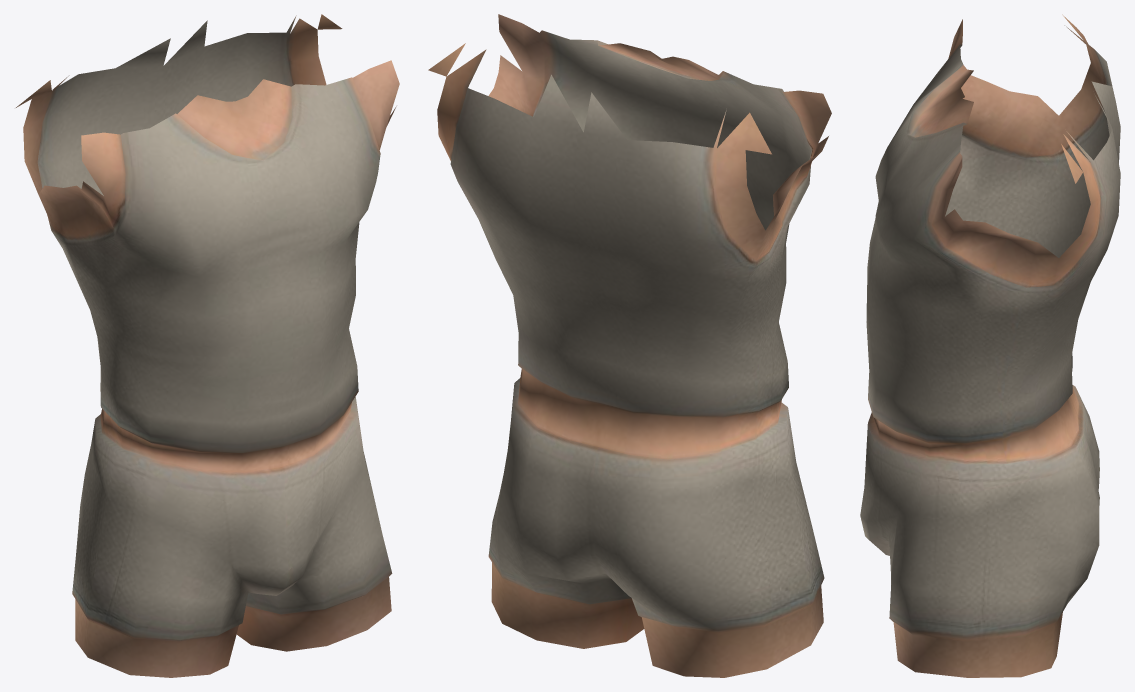
The model's file is character_torso_naked.glb.
3 renders of one model, left to right at view 1: azimuth 30°, elevation 25°; view 2: azimuth 150°, elevation 25°; view 3: azimuth 270°, elevation 25°, orthographic. The views are drawn at different scales.
Parts seen in each view (by area): view 1: tripo_node_bc81f8f9-a104-44a7-afac-f094b41faff7; view 2: tripo_node_bc81f8f9-a104-44a7-afac-f094b41faff7; view 3: tripo_node_bc81f8f9-a104-44a7-afac-f094b41faff7.
Boxes of the visible parts, x1,y1,x2,y2 form: tripo_node_bc81f8f9-a104-44a7-afac-f094b41faff7: (16, 14, 399, 677); tripo_node_bc81f8f9-a104-44a7-afac-f094b41faff7: (428, 14, 831, 677); tripo_node_bc81f8f9-a104-44a7-afac-f094b41faff7: (860, 14, 1120, 677).
Bounding box in the file's own units: 0.4572 × 0.7571 × 0.3204.
Materials: 1 (1 with a texture image).
